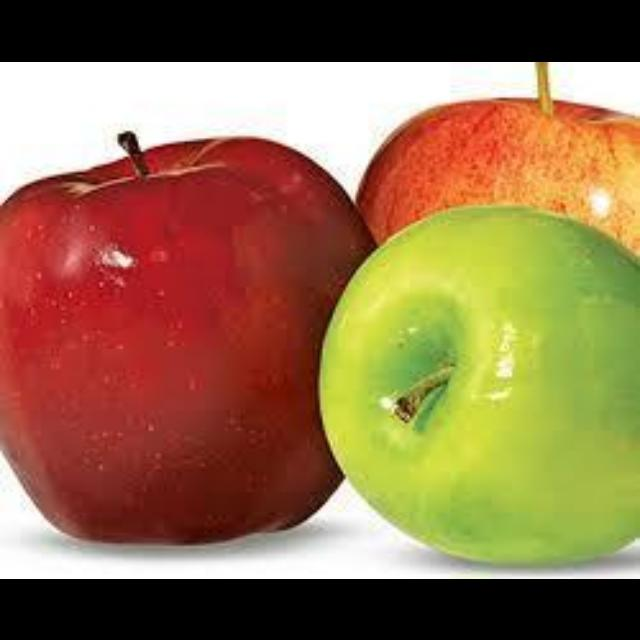apple: (0, 130, 371, 540), (320, 204, 637, 563), (356, 61, 637, 250)
